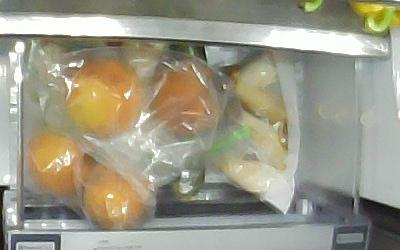peach_vinyl: (64, 59, 141, 138), (147, 60, 219, 137), (82, 164, 153, 228), (26, 129, 94, 193)
